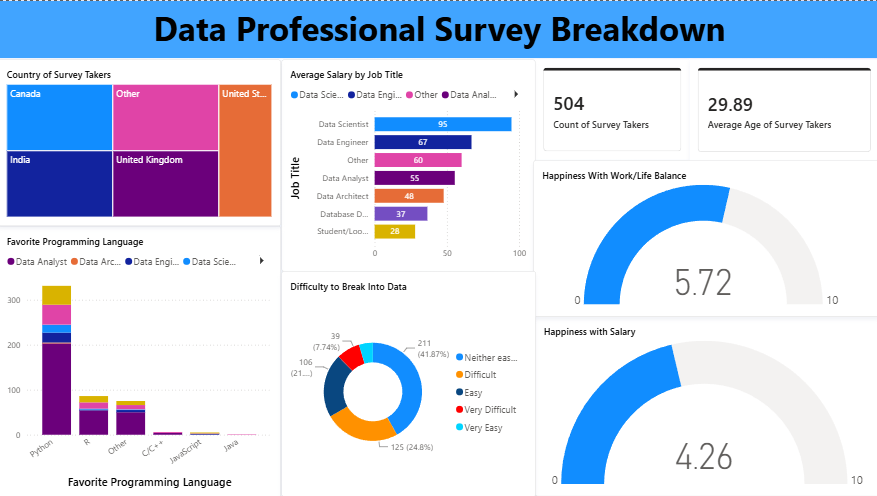

Layout of this report page (visuals, bound fields, positions):
{"tool":"powerbi","page":{"name":"Survey Analysis Dashboard","canvas":[1280,720],"ordinal":0},"visuals":[{"type":"textbox","box":[0,0,1280,82.9],"z":0},{"type":"cardVisual","fields":{"Data":["Count(Data Professional Survey.Unique ID)"]},"box":[778.6,84.3,224.3,145.7],"z":1000},{"type":"cardVisual","fields":{"Data":["Avg(Data Professional Survey.Q10 - Current Age)"]},"box":[1003.2,83.7,275.8,146.8],"z":2000},{"type":"barChart","title":"Average Salary by Job Title","fields":{"Category":["Data Professional Survey.Q1 - Which Title Best Fits your Current Role?.1"],"Y":["Avg(Data Professional Survey.Average Salary )"],"Series":["Data Professional Survey.Q1 - Which Title Best Fits your Current Role?.1"]},"box":[410.3,83.7,367.8,307.4],"z":3000},{"type":"columnChart","title":"Favorite Programming Language","fields":{"Category":["Data Professional Survey.Q5 - Favorite Programming Language.1.1"],"Y":["CountNonNull(Data Professional Survey.Unique ID)"],"Series":["Data Professional Survey.Q1 - Which Title Best Fits your Current Role?.1"]},"box":[0,325.2,410.3,393.9],"z":4000},{"type":"treemap","title":"Country of Survey Takers","fields":{"Group":["Data Professional Survey.Q11 - Which Country do you live in?.1"],"Values":["Count(Data Professional Survey.Q11 - Which Country do you live in?.1)"]},"box":[0,83.7,410.3,241.5],"z":5000},{"type":"gauge","title":"Happiness with Salary","fields":{"Y":["Avg(Data Professional Survey.Q6 - How Happy are you in your Current Position with the following? (Salary))"],"MinValue":["Min(Data Professional Survey.Q6 - How Happy are you in your Current Position with the following? (Salary))"],"MaxValue":["Max(Data Professional Survey.Q6 - How Happy are you in your Current Position with the following? (Salary))"]},"box":[778.6,457.1,500,261.4],"z":6000},{"type":"gauge","title":"Happiness With Work/Life Balance","fields":{"Y":["Avg(Data Professional Survey.Q6 - How Happy are you in your Current Position with the following? (Work/Life Balance))"],"MinValue":["Min(Data Professional Survey.Q6 - How Happy are you in your Current Position with the following? (Work/Life Balance))"],"MaxValue":["Max(Data Professional Survey.Q6 - How Happy are you in your Current Position with the following? (Work/Life Balance))1"]},"box":[777.1,230,501.4,227.1],"z":7000},{"type":"donutChart","title":"Difficulty to Break Into Data","fields":{"Category":["Data Professional Survey.Q7 - How difficult was it for you to break into Data?"],"Y":["CountNonNull(Data Professional Survey.Q7 - How difficult was it for you to break into Data?)"]},"box":[410,391.4,368.6,327.1],"z":8000}]}

Visuals, with their boxes in screenshot pixels (x1, y1, x2, y2), scaled from the page's 1280x720 canvas onto the 877x496 screenshot:
textbox: bbox(0, 0, 876, 57)
cardVisual - Count(Data Professional Survey.Unique ID): bbox(533, 58, 687, 158)
cardVisual - Avg(Data Professional Survey.Q10 - Current Age): bbox(687, 58, 876, 159)
"Average Salary by Job Title" barChart: bbox(281, 58, 533, 269)
"Favorite Programming Language" columnChart: bbox(0, 224, 281, 495)
"Country of Survey Takers" treemap: bbox(0, 58, 281, 224)
"Happiness with Salary" gauge: bbox(533, 315, 876, 495)
"Happiness With Work/Life Balance" gauge: bbox(532, 158, 876, 315)
"Difficulty to Break Into Data" donutChart: bbox(281, 270, 533, 495)
